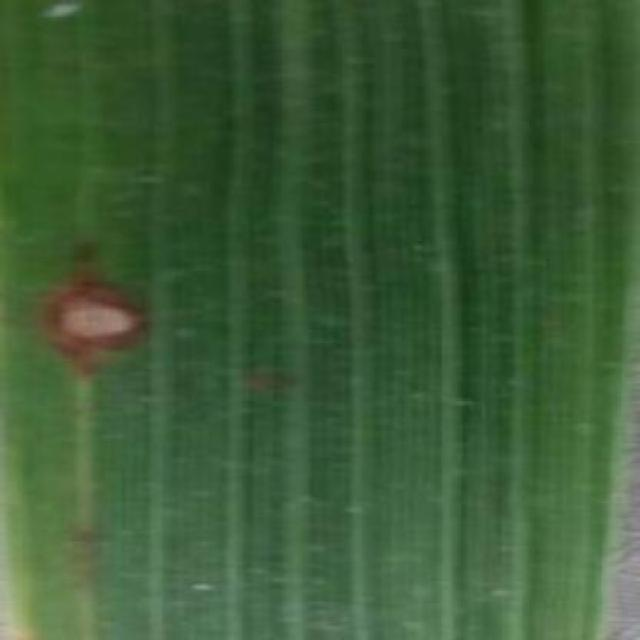Bacterial_Leaf_Blight: (1, 226, 219, 439), (0, 598, 89, 640)
